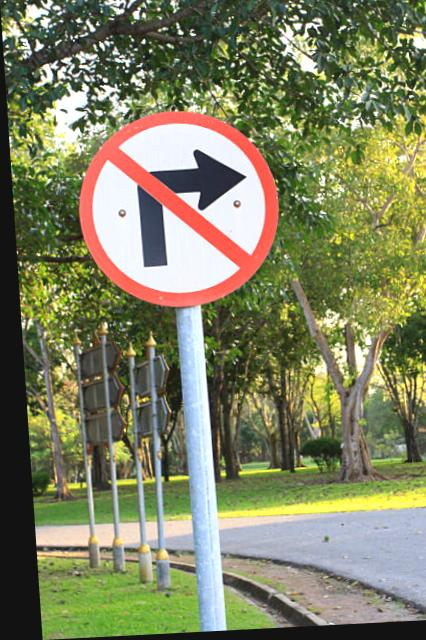not_turn_right: (78, 106, 285, 310)
